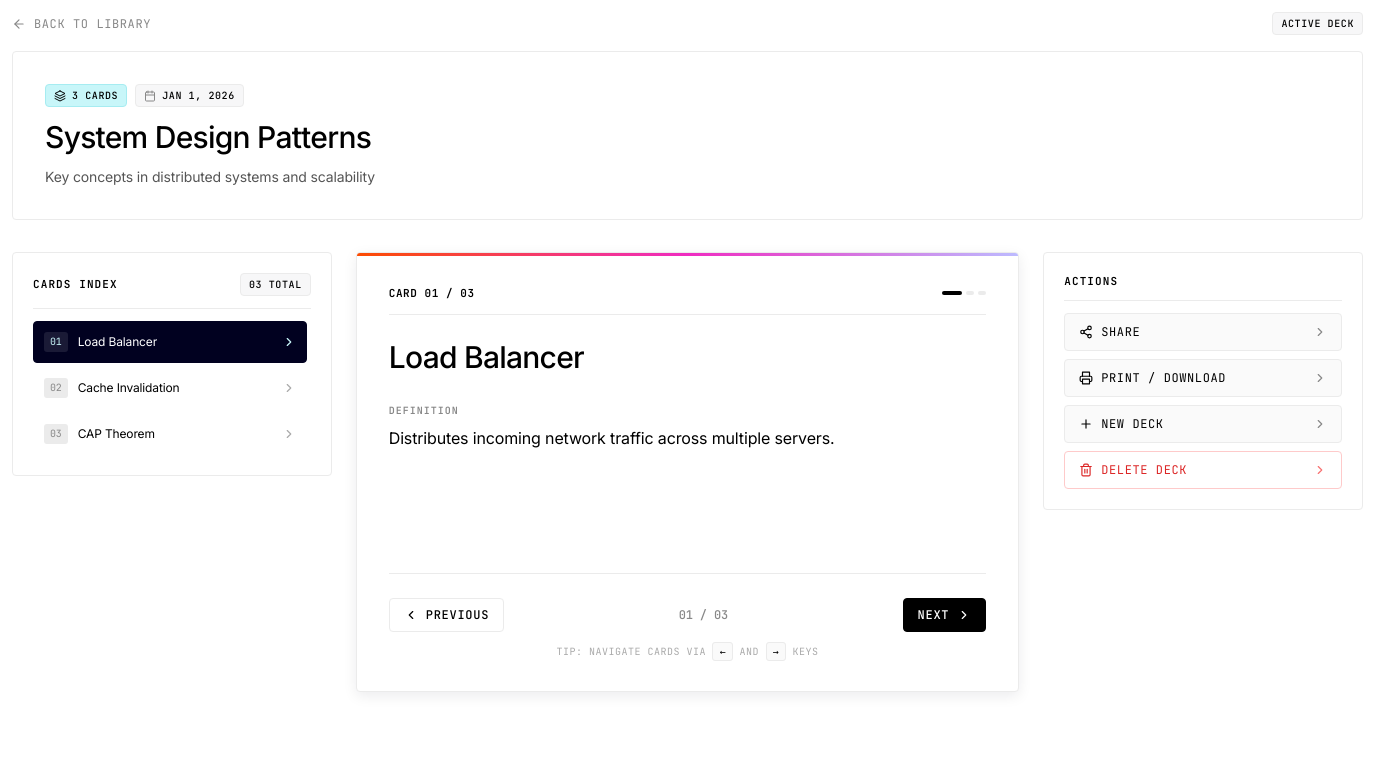
Scenario: FlashcardDetails component › navigates to next and previous terms using buttons
The width and height of the screenshot is (1378, 780).
Click the button "Next".
click(944, 615)  # box [903,598,986,632]
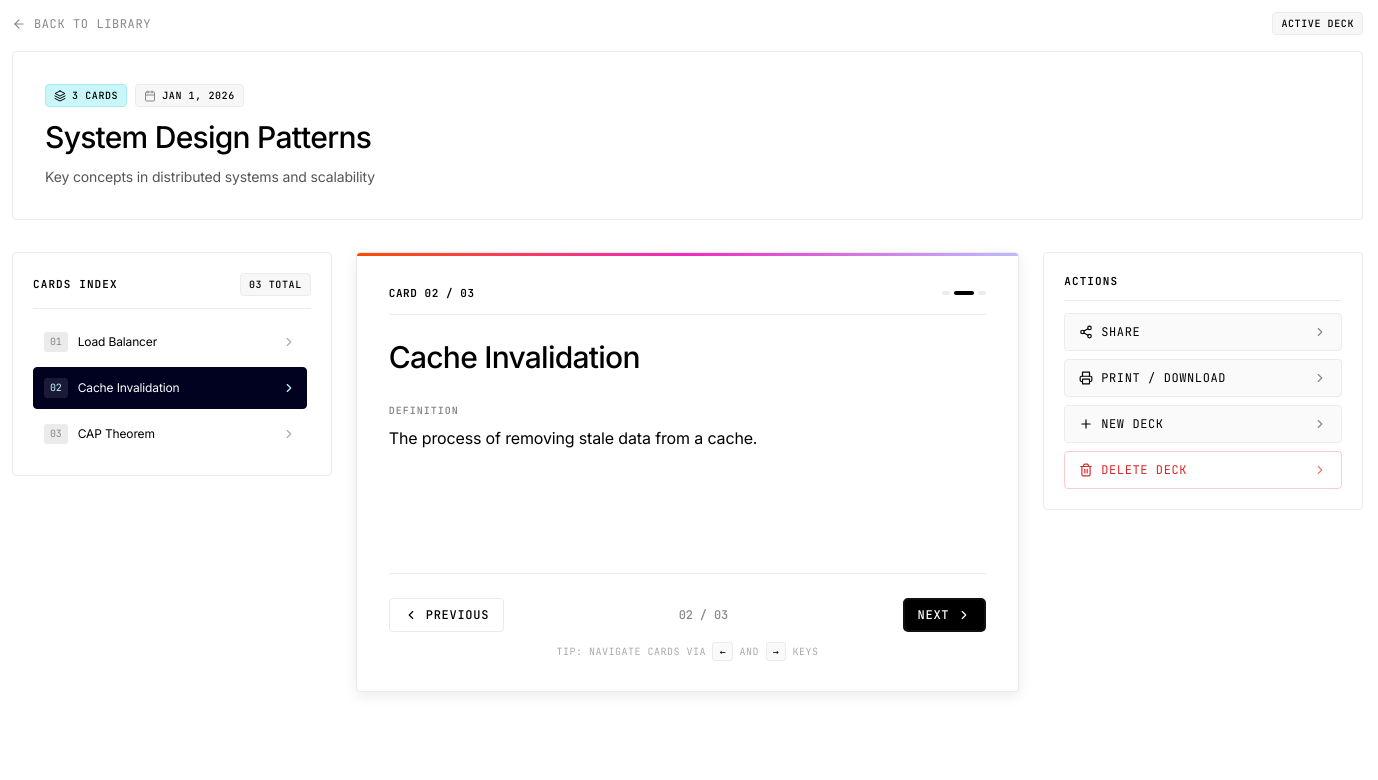
Expected: the text "CARD 02 / 03" is shown, [389,285,475,302]
Expected: the heading "Cache Invalidation" is shown, [389,338,640,374]
Expected: the text "The process of removing stale data from a cache." is shown, [389,428,757,448]
Click the button "Next".
click(944, 615)  # box [903,598,986,632]
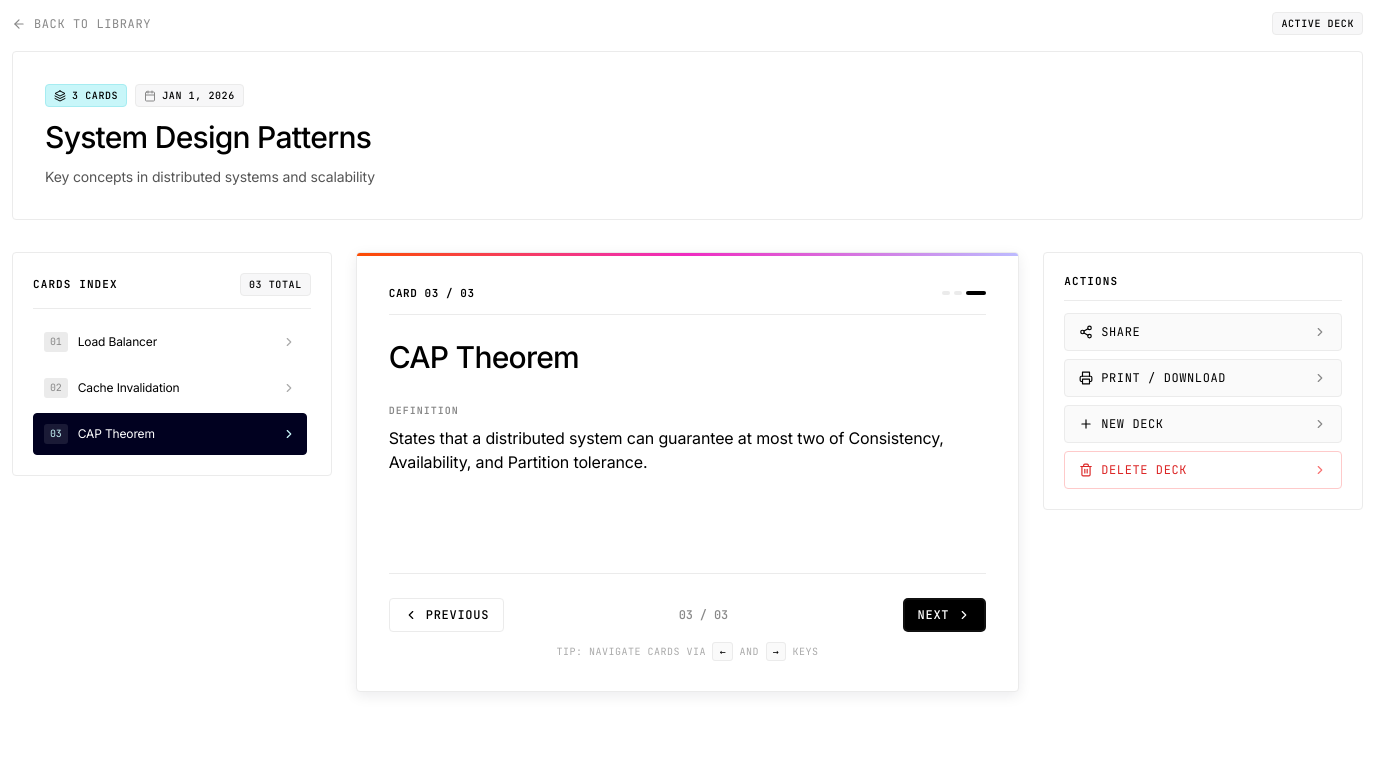
Expected: the text "CARD 03 / 03" is shown, [389,285,475,302]
Expected: the heading "CAP Theorem" is shown, [389,338,579,374]
Note: Click Next at the end wraps around to Card 1
Click the button "Next".
click(944, 615)  # box [903,598,986,632]
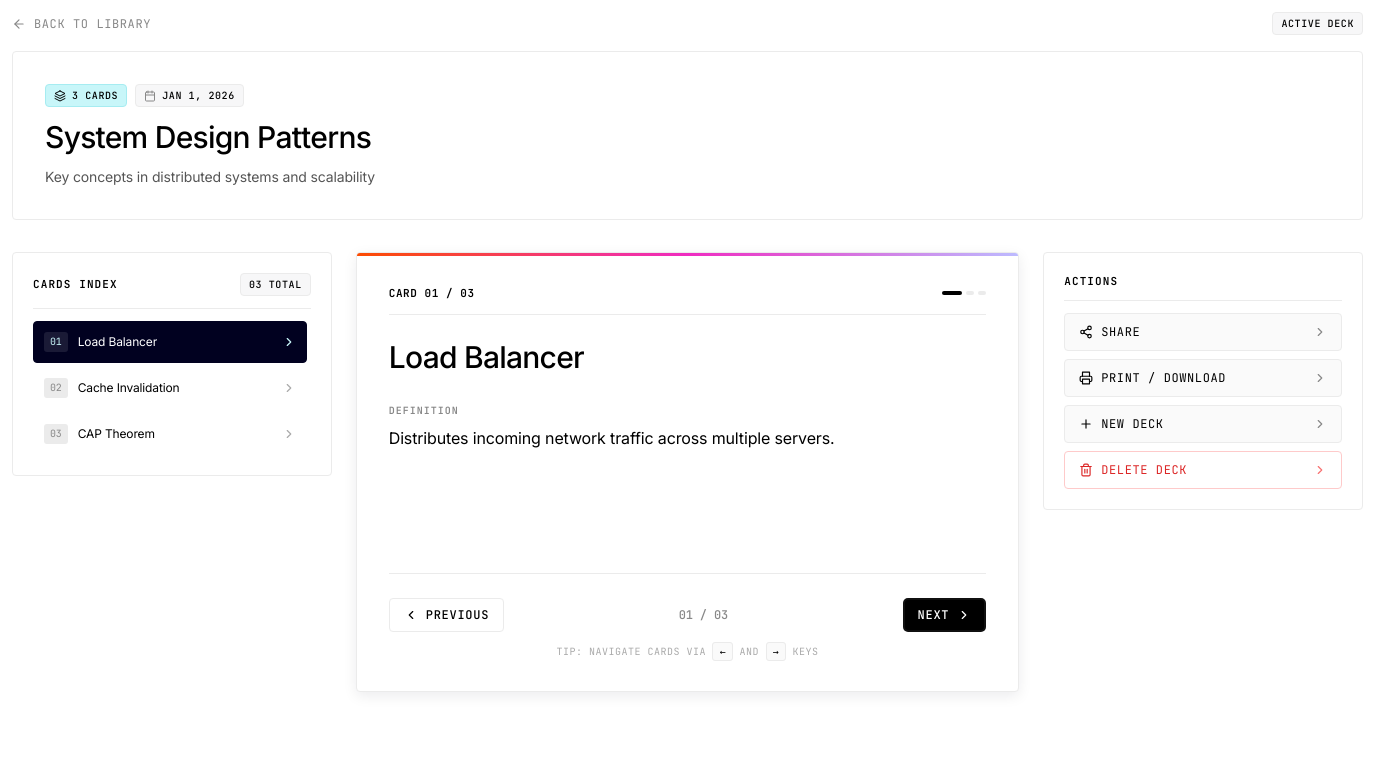
Expected: the text "CARD 01 / 03" is shown, [389,285,475,302]
Expected: the heading "Load Balancer" is shown, [389,338,584,374]
Note: Click Previous wraps to Card 3
Click the button "Previous".
click(446, 615)  # box [389,598,504,632]
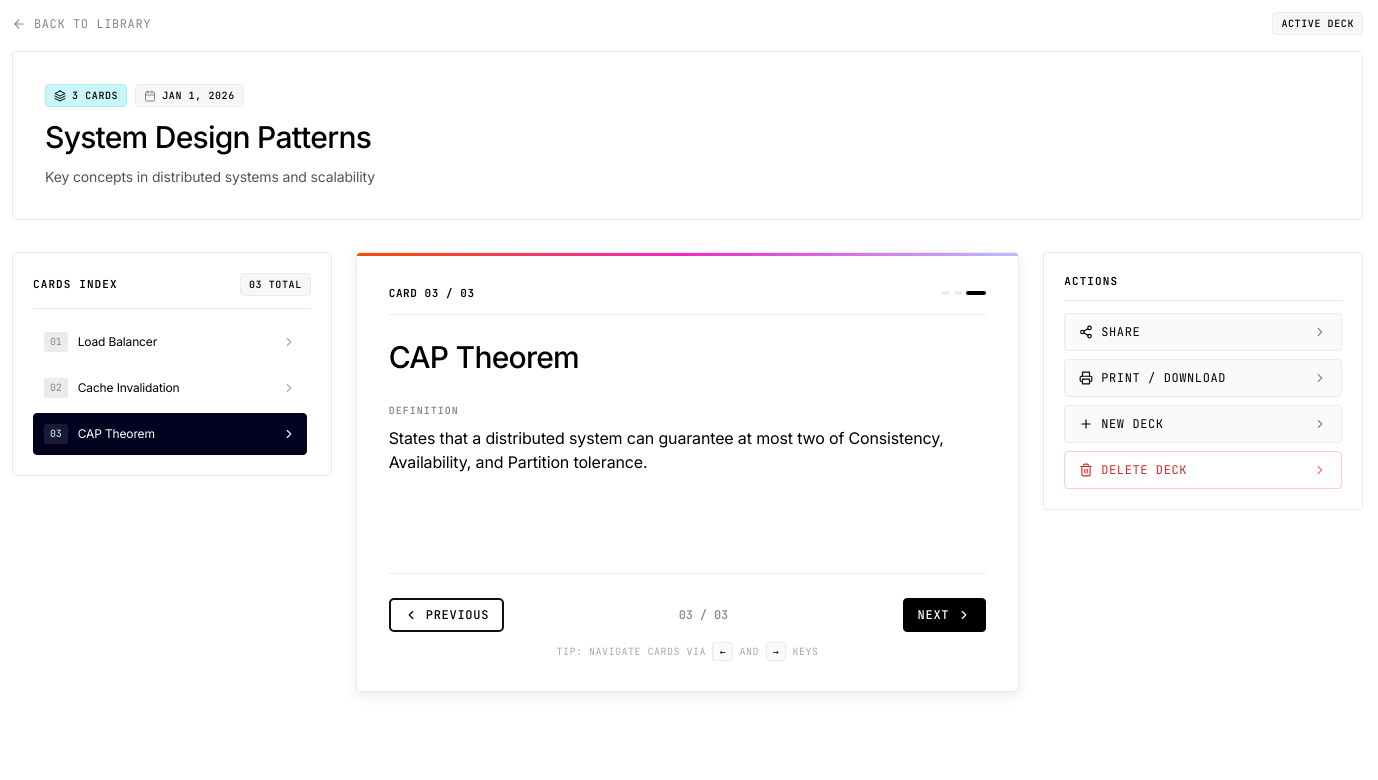
Expected: the text "CARD 03 / 03" is shown, [389,285,475,302]
Expected: the heading "CAP Theorem" is shown, [389,338,579,374]
